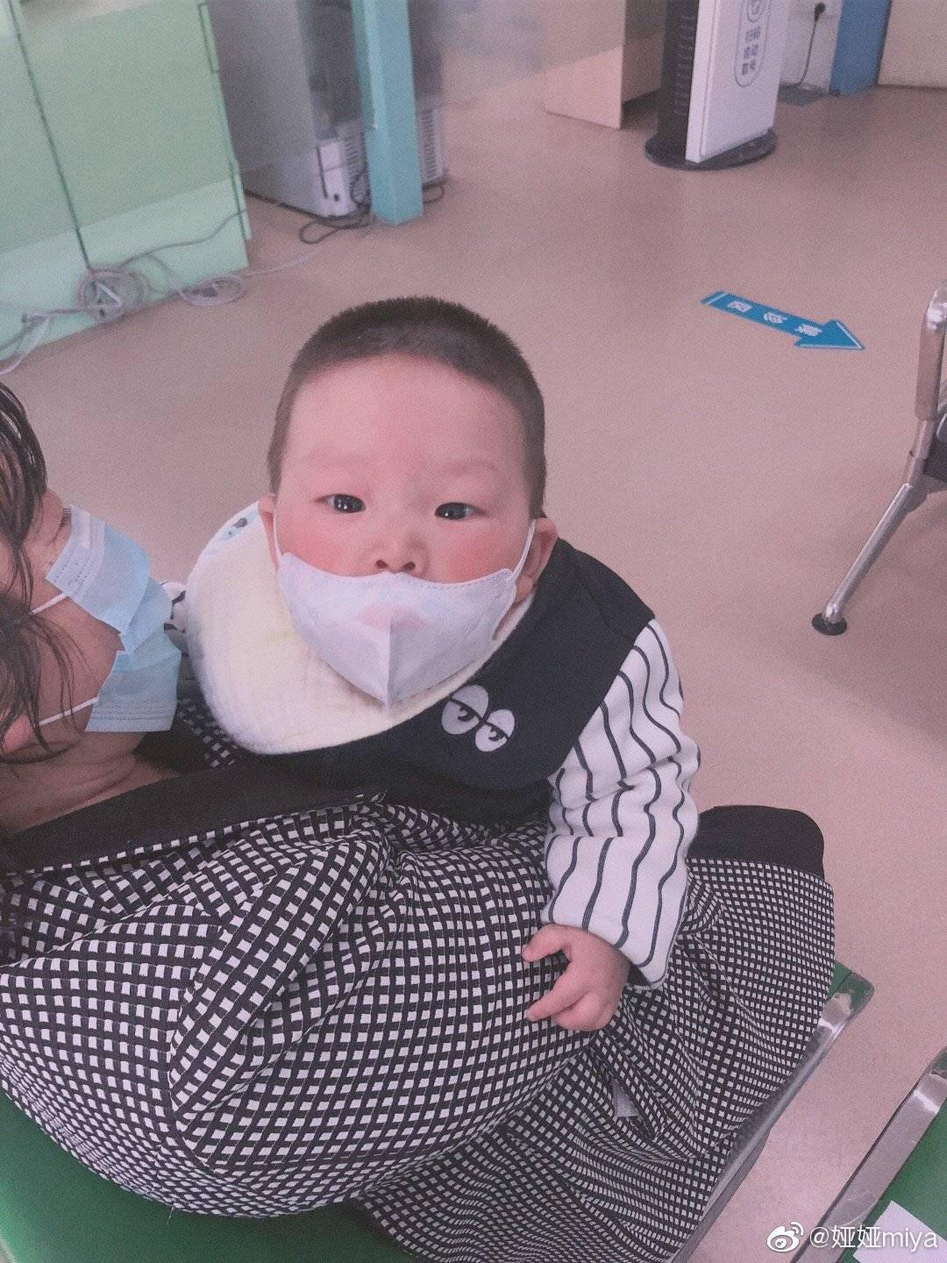OK: (15, 482, 175, 759)
WRONG: (281, 443, 528, 700)
